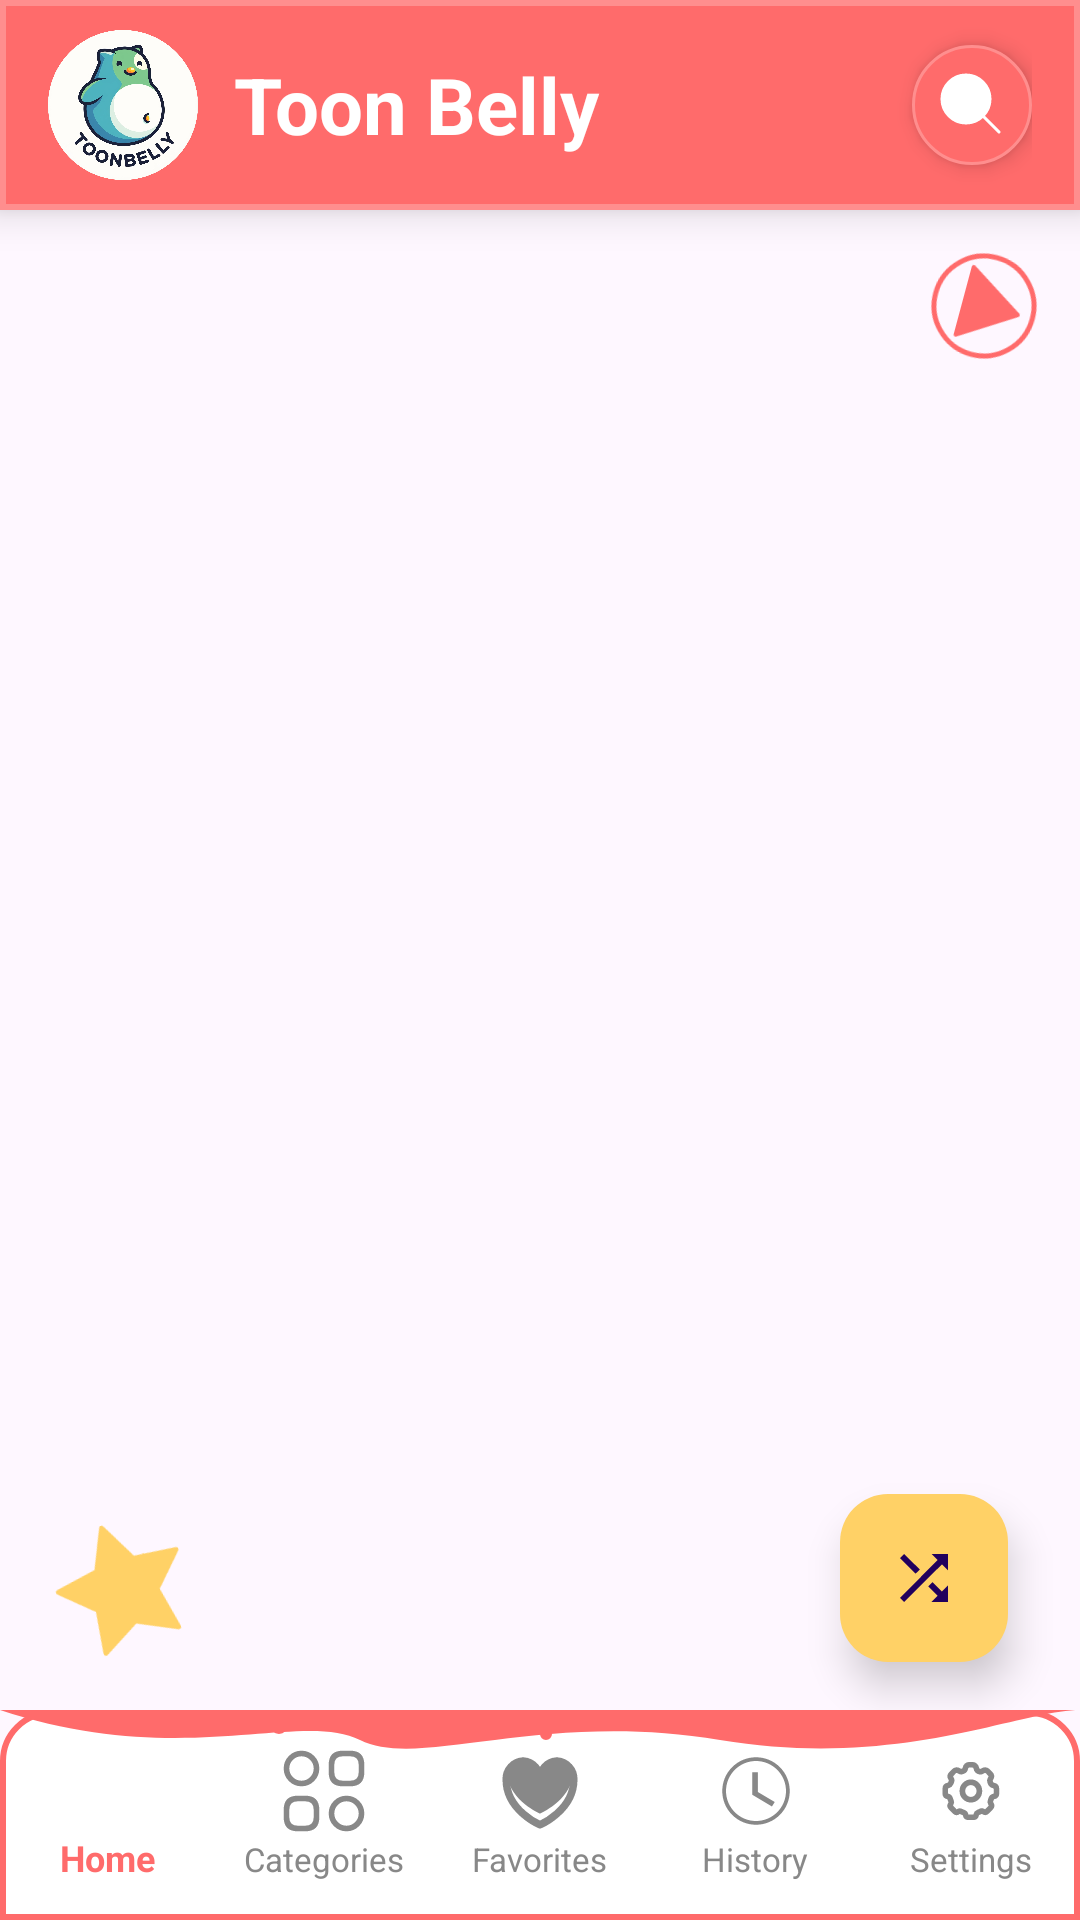

Locate icon controls on the screen. Image size 1080px×1920px, boxes as (x1, y1, x2, y2).
cartoon search: (912, 45, 1032, 165)
cartoon shuffle: (840, 1494, 1008, 1662)
